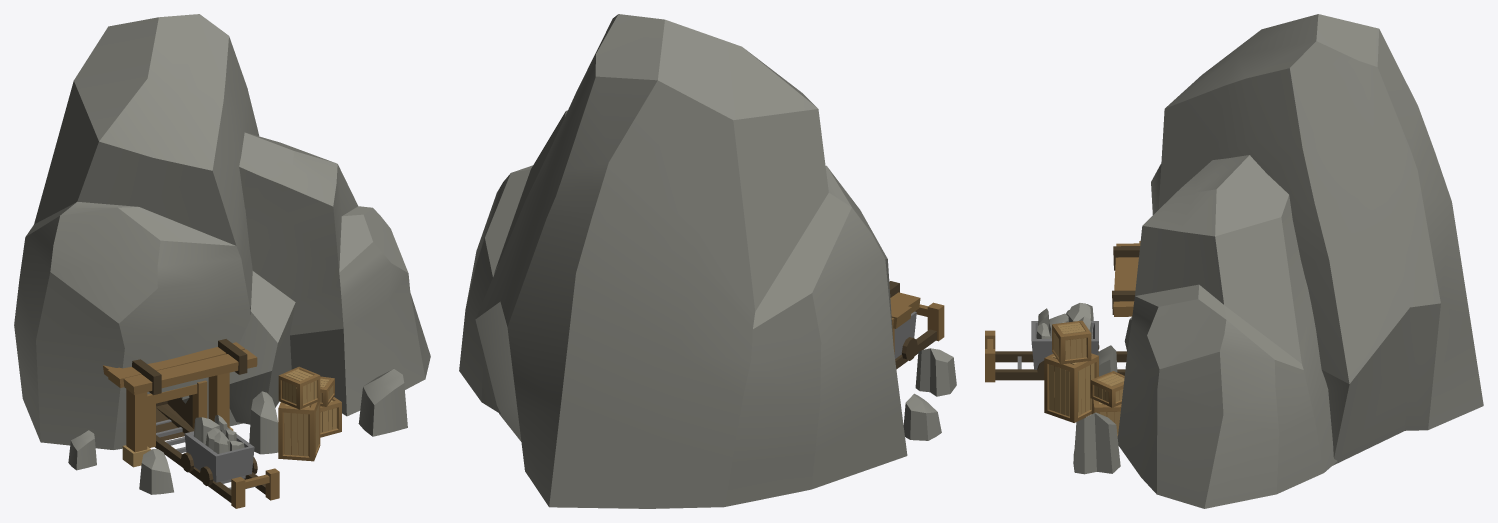
Rendered from Mine.glb.
3 views of the same model, side by side, from view 1: azimuth 30°, elevation 25°; view 2: azimuth 150°, elevation 25°; view 3: azimuth 270°, elevation 25° (orthographic). The views are drawn at different scales.
Visible parts, largest first — view 1: Mine; view 2: Mine; view 3: Mine.
Part boxes in pixels (box(x1,y1,x2,y2)): Mine: box(14, 14, 430, 508); Mine: box(459, 14, 956, 508); Mine: box(985, 14, 1483, 508).
Size of the model in its own units: 1.28 by 1.17 by 1.36.
